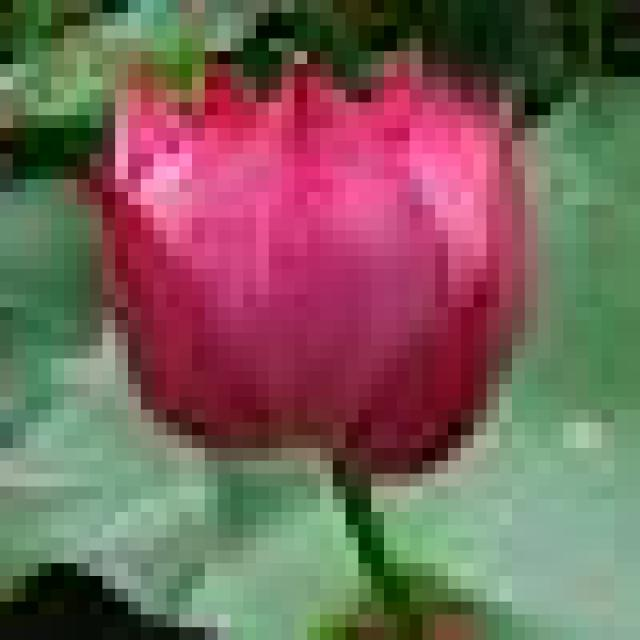lotus: (72, 32, 560, 486)
